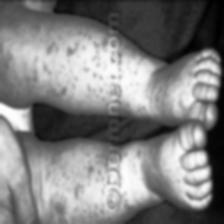Toxin: (52, 61, 83, 94), (55, 184, 74, 220), (127, 75, 143, 111), (0, 38, 15, 74), (90, 40, 104, 78), (24, 60, 42, 88), (86, 152, 98, 178), (92, 196, 104, 222), (88, 84, 106, 100), (101, 147, 108, 187), (122, 182, 132, 209), (45, 38, 61, 54), (125, 46, 134, 68), (65, 42, 77, 58), (134, 143, 142, 159)
